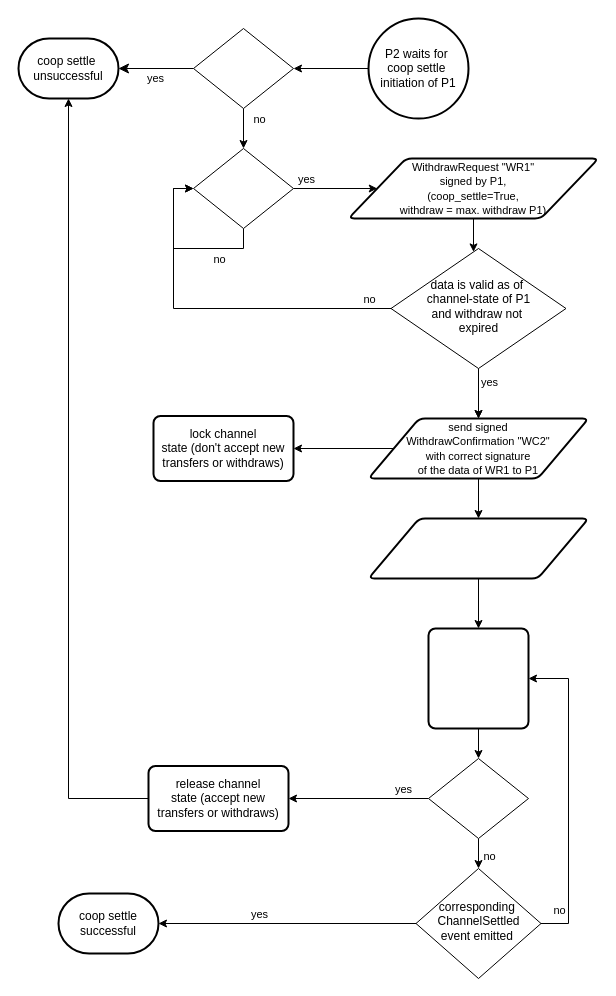
Some shapes in this 616 by 996 pixel diagram are drawn without their labels. The centre of each missing label's shape, as x and y in pixels:
new messages from P1?: point 243,188
pending locks?: point 243,68
poll blockchain events: point 478,678
send signed WithdrawRequest "WR2" (withdraw=max. withdraw P2) to P1: point 478,548
Withdraw expired?: point 478,798
